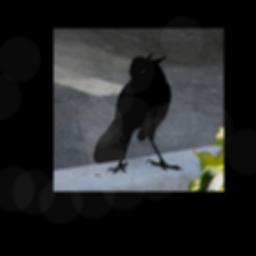Crow: (94, 52, 183, 174)
